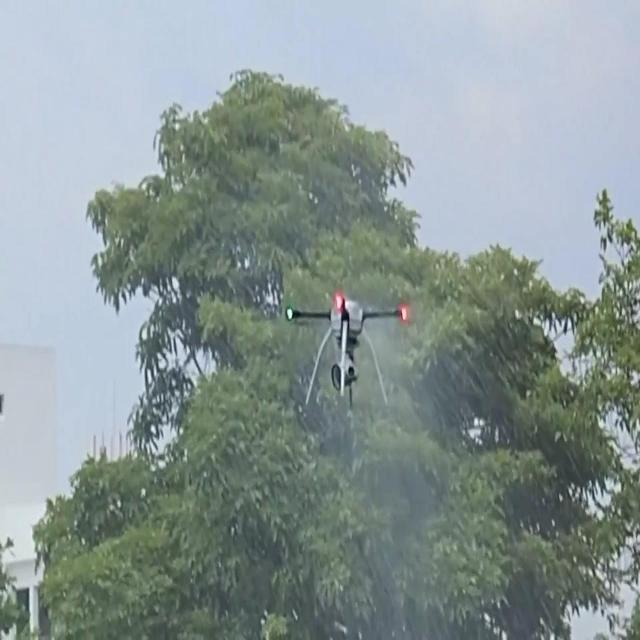UAV: (286, 284, 412, 408)
